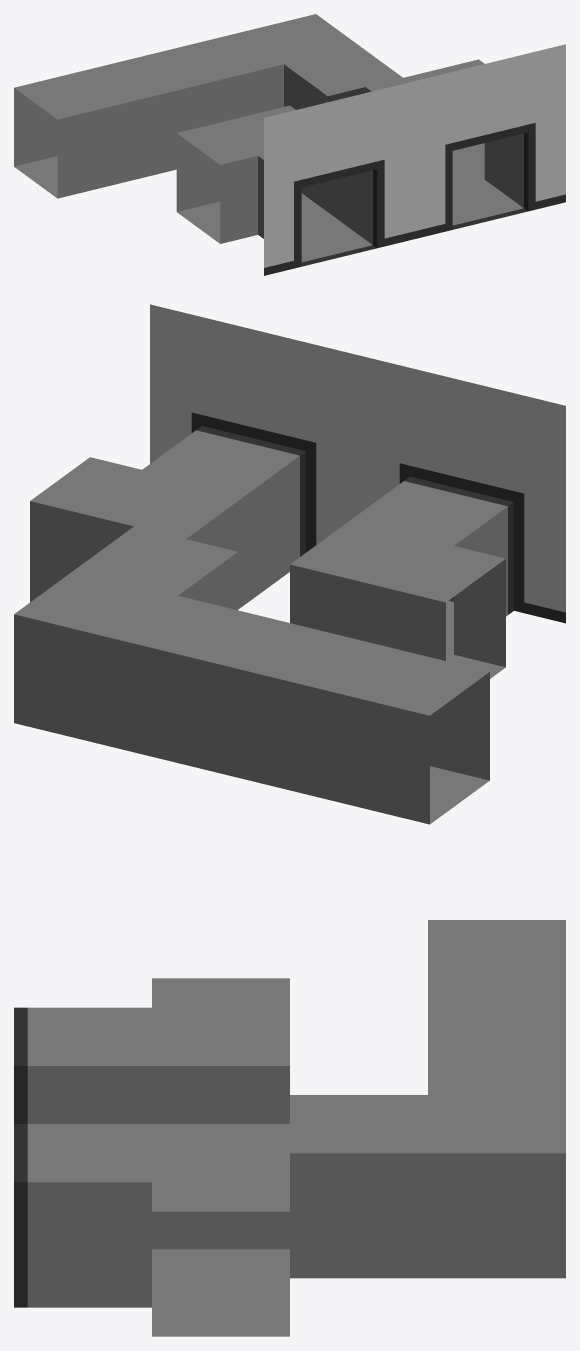
File: VentSystem.fbx
The picture shows the model from 3 angles, top to bottom: view 1: azimuth 30°, elevation 25°; view 2: azimuth 150°, elevation 25°; view 3: azimuth 270°, elevation 25°; orthographic projection. The views are drawn at different scales.
Parts seen in each view (by area): view 1: Vent_E_R, Vent_E_L, Vent_S, Vent_C; view 2: Vent_E_R, Vent_E_L, Vent_C, Vent_S; view 3: Vent_C, Vent_E_L, Vent_E_R, Vent_S.
Boxes of the visible parts, x1,y1,x2,y2 form: Vent_E_R: [176, 81, 414, 275]; Vent_E_L: [365, 44, 565, 238]; Vent_S: [14, 51, 208, 198]; Vent_C: [165, 14, 402, 124]; Vent_E_R: [290, 355, 565, 678]; Vent_E_L: [30, 304, 357, 609]; Vent_C: [14, 526, 281, 773]; Vent_S: [222, 621, 489, 824]; Vent_C: [290, 1036, 565, 1278]; Vent_E_L: [14, 1124, 289, 1336]; Vent_E_R: [14, 978, 289, 1123]; Vent_S: [428, 920, 565, 1036].
Size of the model in its own units: 500 by 200 by 400.
